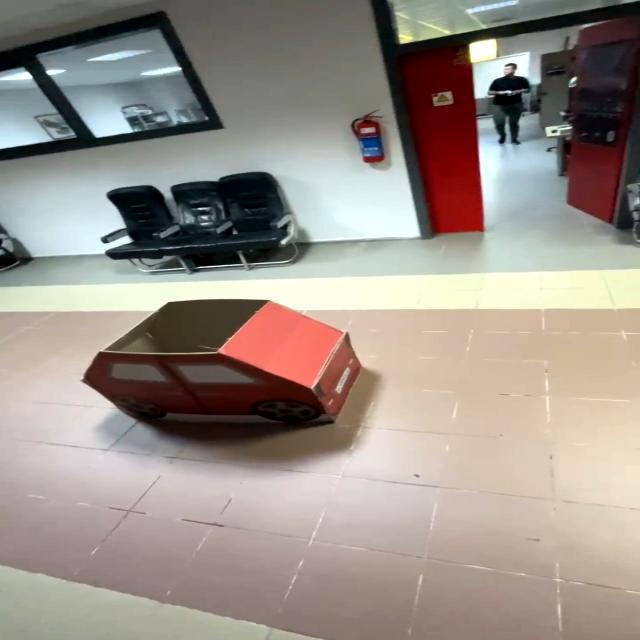red_car: (48, 276, 401, 491)
